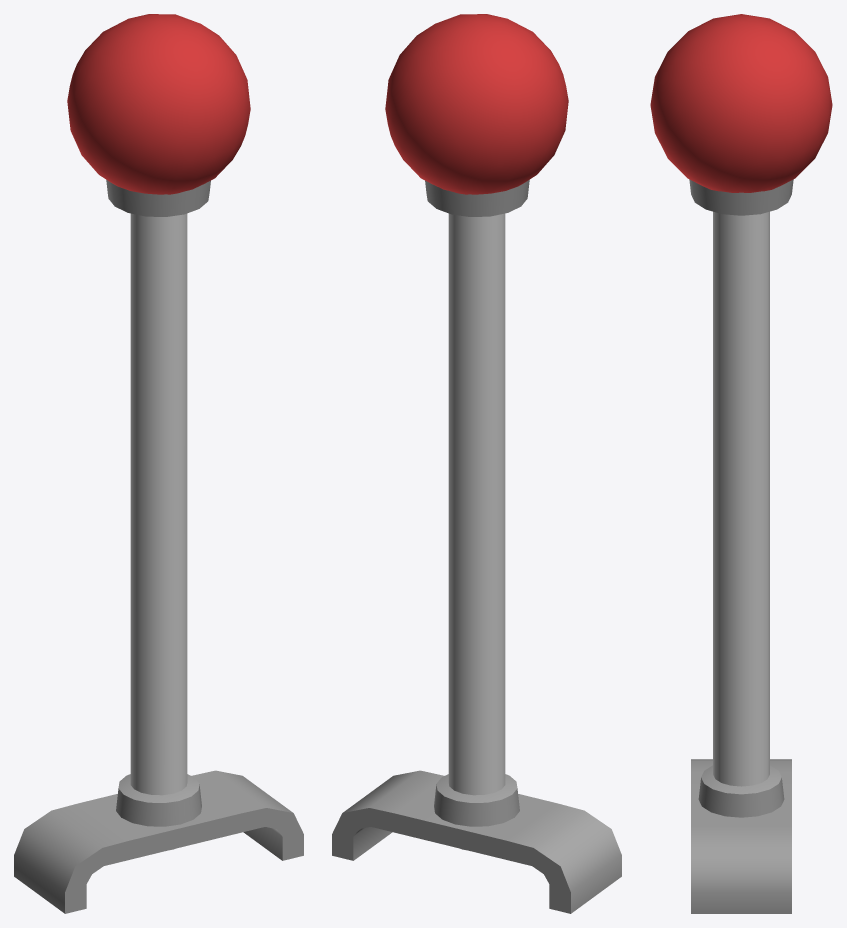
File: LS_Arm_003.fbx
3 renders of one model, left to right at view 1: azimuth 30°, elevation 25°; view 2: azimuth 150°, elevation 25°; view 3: azimuth 270°, elevation 25°, orthographic.
Visible parts, largest first — view 1: LS_Arm_003; view 2: LS_Arm_003; view 3: LS_Arm_003.
Boxes of the visible parts, box(x1,y1,x2,y2) form: LS_Arm_003: box(14, 14, 303, 913); LS_Arm_003: box(332, 14, 621, 913); LS_Arm_003: box(650, 14, 832, 913).
Bounding box in the file's own units: 96.73 × 327 × 64.73.
